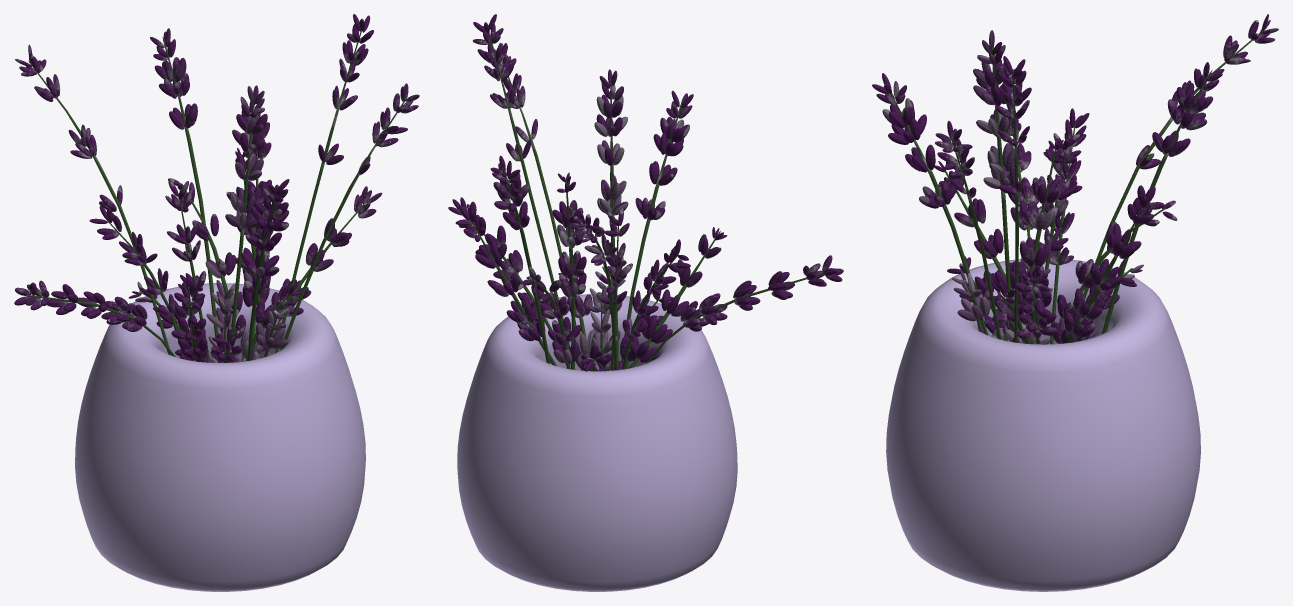
The model's file is lavender.glb.
The picture shows the model from 3 angles, left to right: view 1: azimuth 30°, elevation 25°; view 2: azimuth 150°, elevation 25°; view 3: azimuth 270°, elevation 25°; orthographic projection. The views are drawn at different scales.
Parts seen in each view (by area): view 1: g (×7); view 2: g (×5); view 3: g (×7).
Part boxes in pixels (x1,y1,x2,y2): g (×7): (28,30,406,591); g (×5): (457,32,737,591); g (×7): (885,28,1265,591).
Bounding box in the file's own units: 0.4452 × 0.56 × 0.3763.
Materials: 3 (2 with a texture image).
